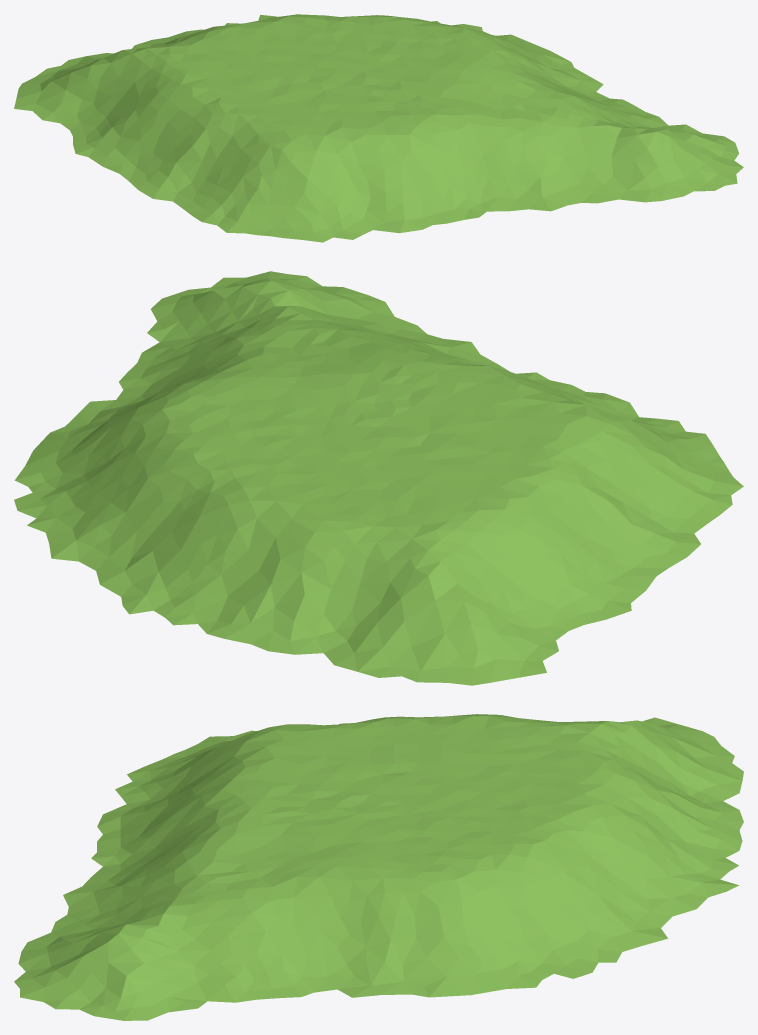
Rendered from MT_Island_L_a_09_LOD.fbx.
3 renders of one model, top to bottom at view 1: azimuth 30°, elevation 25°; view 2: azimuth 150°, elevation 25°; view 3: azimuth 270°, elevation 25°, orthographic. The views are drawn at different scales.
Visible parts, largest first — view 1: MT_Island_L_a_09_LOD0; view 2: MT_Island_L_a_09_LOD0; view 3: MT_Island_L_a_09_LOD0.
Part boxes in pixels (x1,y1,x2,y2): MT_Island_L_a_09_LOD0: [14, 14, 743, 242]; MT_Island_L_a_09_LOD0: [14, 271, 743, 685]; MT_Island_L_a_09_LOD0: [14, 714, 743, 1020].
Size of what is drawn, in the model's own units: 9495 by 930 by 9609.
